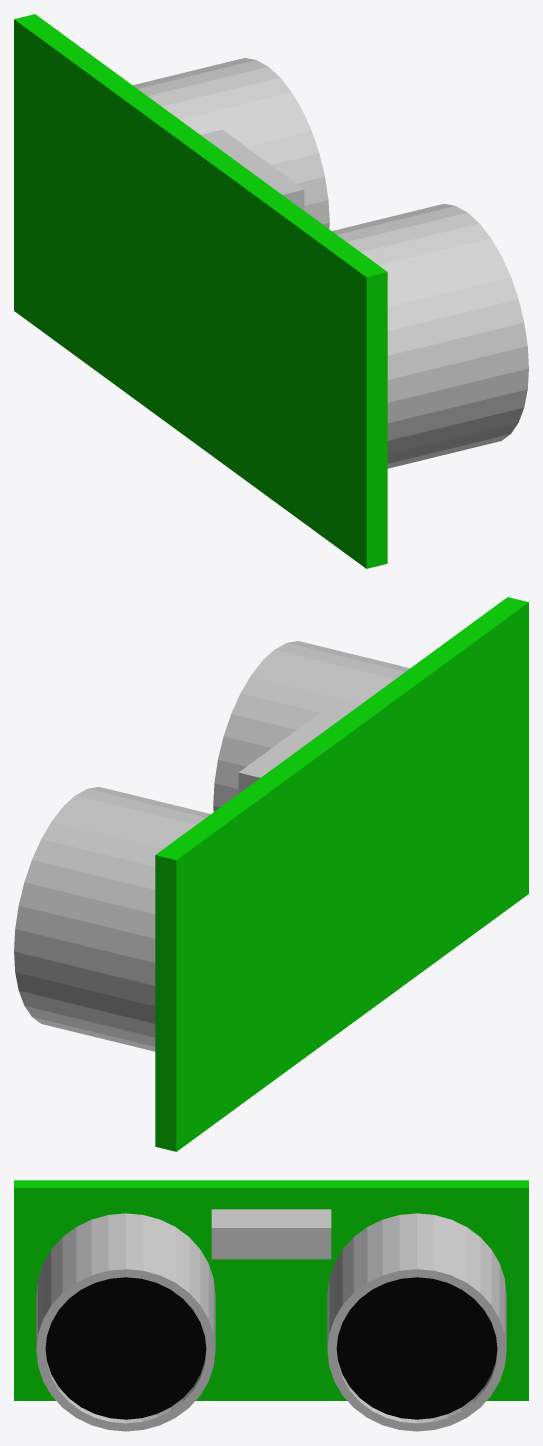
Rendered from sonarModel.glb.
The picture shows the model from 3 angles, top to bottom: view 1: azimuth 30°, elevation 25°; view 2: azimuth 150°, elevation 25°; view 3: azimuth 270°, elevation 25°; orthographic projection. The views are drawn at different scales.
Visible parts, largest first — view 1: Cube.001; view 2: Cube.001; view 3: Cube.001.
Boxes of the visible parts, x1,y1,x2,y2 form: Cube.001: (14,14,528,568); Cube.001: (14,597,528,1151); Cube.001: (14,1180,528,1431).
Size of the model in its own units: 0.134 by 0.21 by 0.46.
